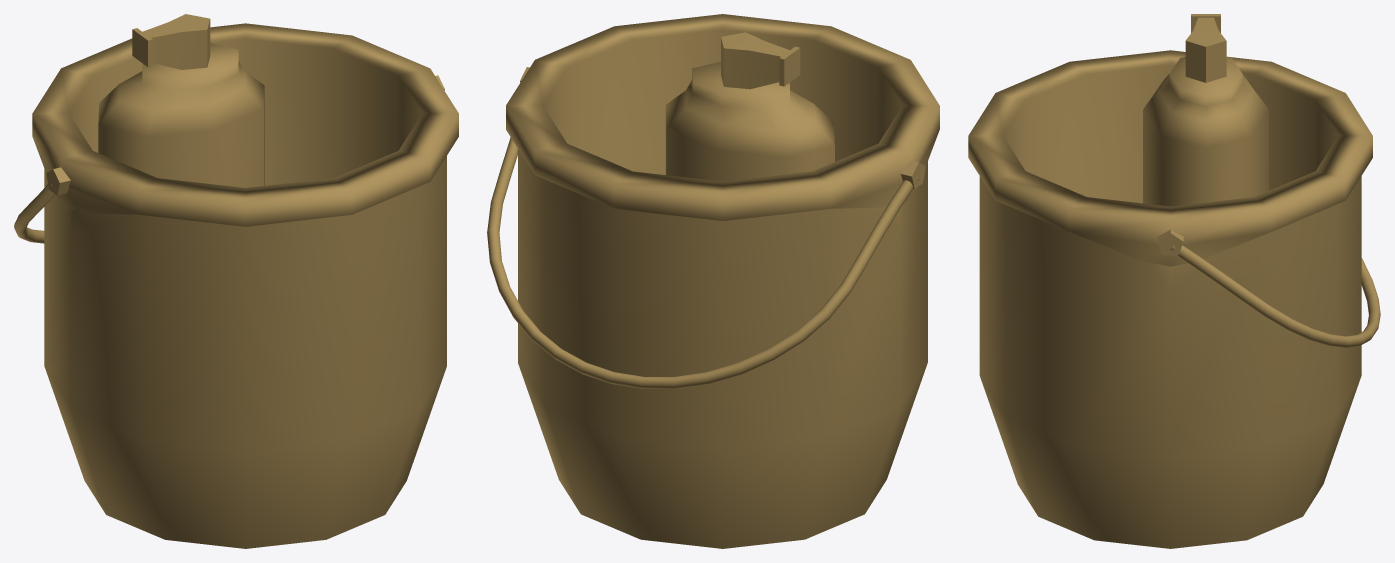
The model's file is Balde.fbx.
3 renders of one model, left to right at view 1: azimuth 30°, elevation 25°; view 2: azimuth 150°, elevation 25°; view 3: azimuth 270°, elevation 25°, orthographic. The views are drawn at different scales.
Visible parts, largest first — view 1: pCylinder249; view 2: pCylinder249; view 3: pCylinder249.
Part boxes in pixels (left/top/right/bottom): pCylinder249: left=14, top=14, right=458, bottom=548; pCylinder249: left=487, top=14, right=939, bottom=548; pCylinder249: left=968, top=14, right=1380, bottom=548.
Bounding box in the file's own units: 0.3661 × 0.4104 × 0.3565.
